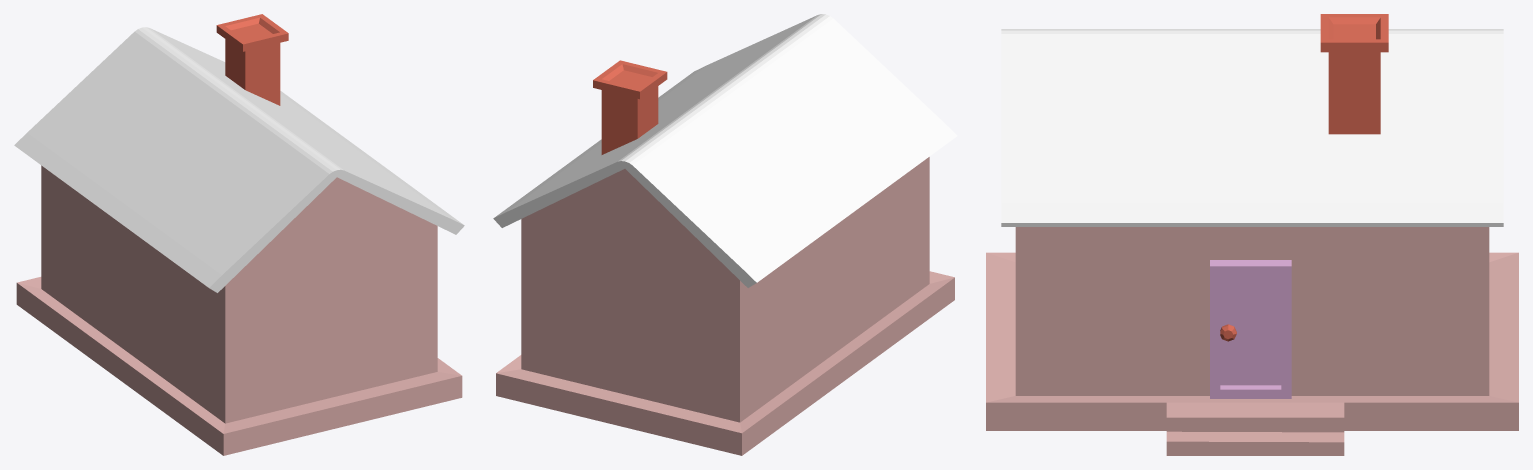
File: firsthouse.glb
3 views of the same model, side by side, from view 1: azimuth 30°, elevation 25°; view 2: azimuth 150°, elevation 25°; view 3: azimuth 270°, elevation 25° (orthographic). The views are drawn at different scales.
Parts seen in each view (by area): view 1: Cube, Roof, Chimney; view 2: Cube, Roof, Chimney; view 3: Cube, Roof, Door, Chimney.
Part boxes in pixels (box(x1,y1,x2,y2)): Cube: box(16, 165, 462, 455); Roof: box(14, 27, 464, 292); Chimney: box(216, 14, 288, 105); Cube: box(496, 157, 954, 455); Roof: box(493, 14, 957, 287); Chimney: box(593, 60, 667, 154); Cube: box(986, 227, 1518, 455); Roof: box(1001, 29, 1503, 226); Door: box(1210, 260, 1291, 398); Chimney: box(1320, 14, 1388, 134).
Bounding box in the file's own units: 5.41 × 5.04 × 6.75.
